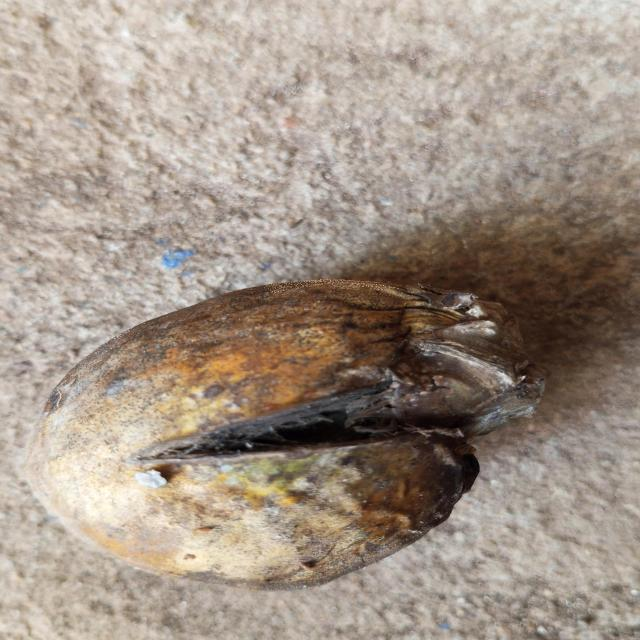damaged: (26, 280, 544, 588)
